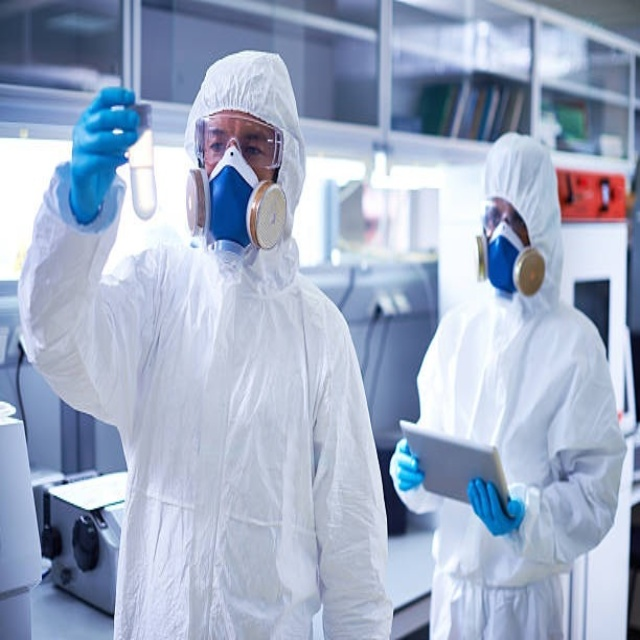Gafas: (193, 113, 287, 175), (480, 202, 527, 239)
Guantes: (68, 85, 141, 225), (468, 478, 525, 537), (390, 437, 424, 493)
Mascara: (187, 138, 288, 254), (485, 227, 527, 295)
